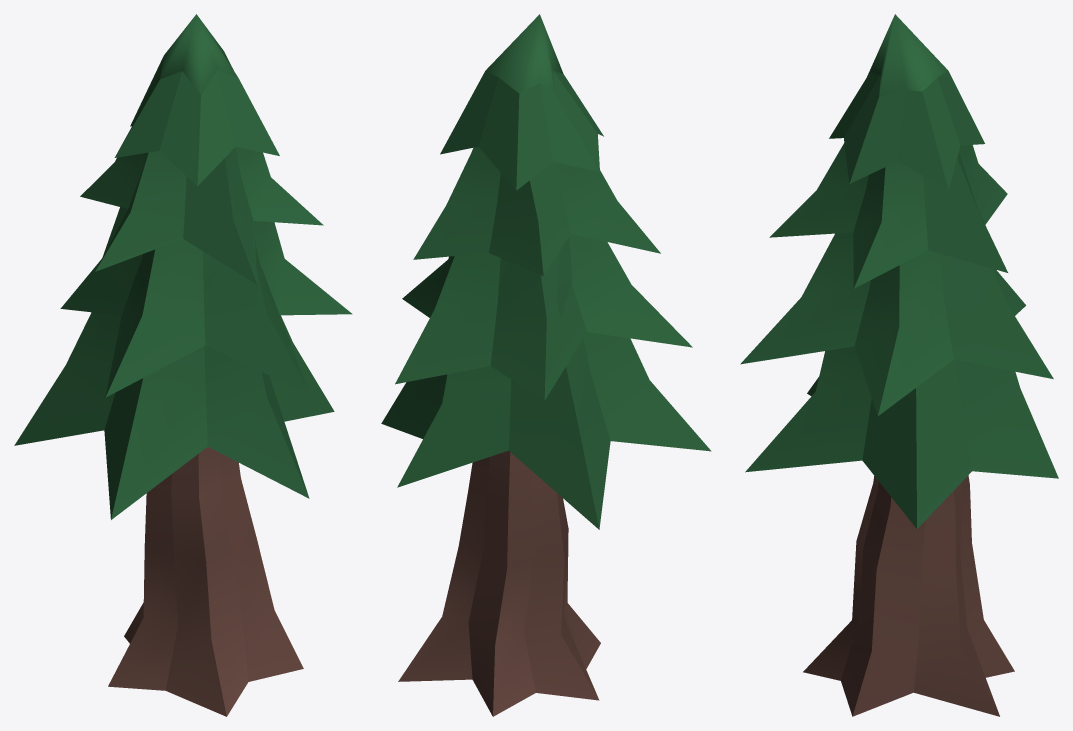
File: Pinetree2.fbx
3 views of the same model, side by side, from view 1: azimuth 30°, elevation 25°; view 2: azimuth 150°, elevation 25°; view 3: azimuth 270°, elevation 25° (orthographic).
Parts seen in each view (by area): view 1: mod_sapin_entier; view 2: mod_sapin_entier; view 3: mod_sapin_entier.
Boxes of the visible parts, bbox=[...] form: mod_sapin_entier: bbox=[14, 14, 352, 716]; mod_sapin_entier: bbox=[381, 14, 711, 716]; mod_sapin_entier: bbox=[740, 14, 1058, 716].
Size of the model in its own units: 3.23 by 7.37 by 3.2.
